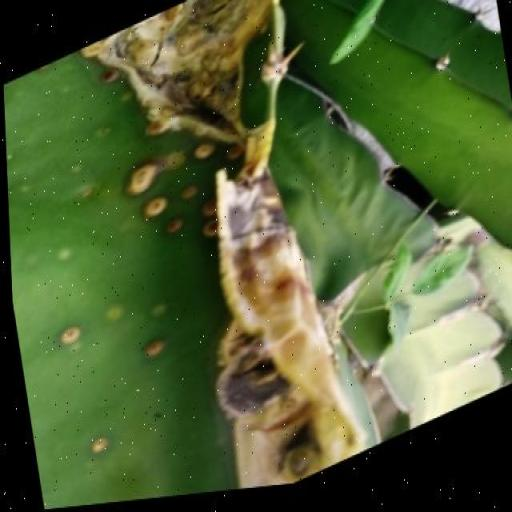stemcanker: (83, 428, 116, 464), (54, 323, 91, 351), (190, 137, 220, 164), (142, 194, 169, 221), (145, 336, 169, 360), (164, 216, 187, 240), (178, 180, 200, 203), (198, 197, 220, 219), (98, 67, 120, 87), (199, 219, 219, 241)
